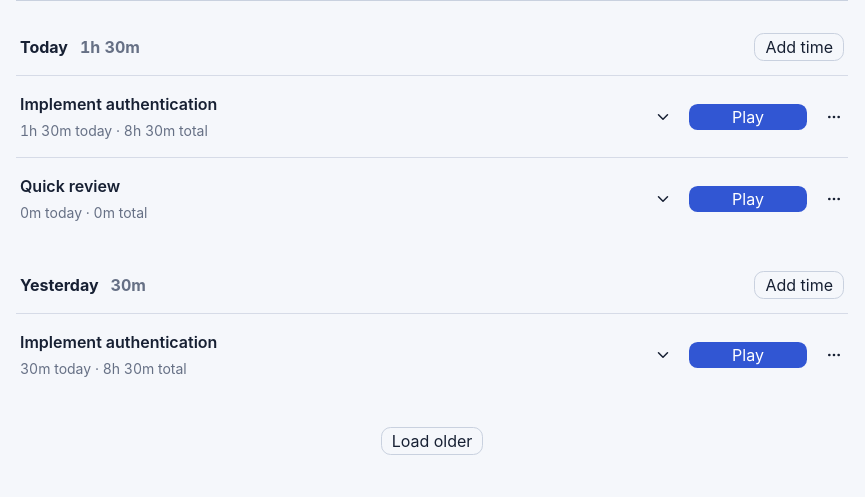
Scenario: DailyHistory › shows a compact stale-task message after TASK_NOT_FOUND while preserving history controls
Click the button with aria-label "Play Implement authentication": x=748, y=116 [688, 102, 808, 130]
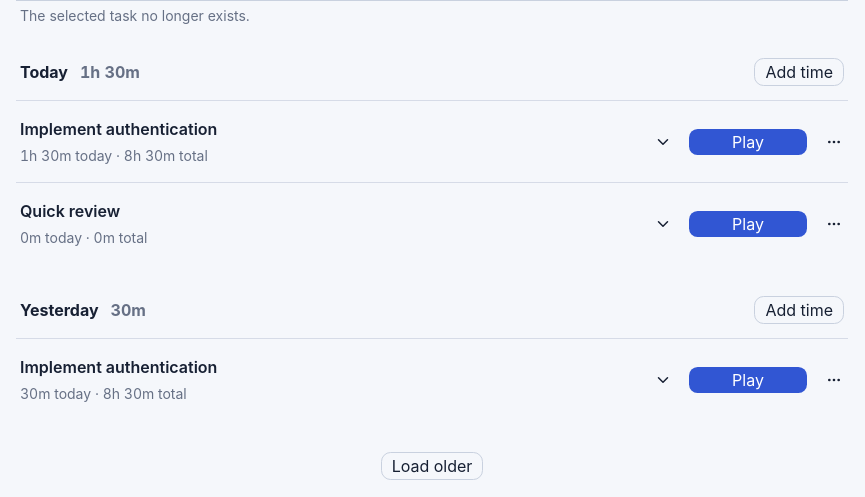
Expected: the button with aria-label "Play Quick review" is enabled, [688, 210, 808, 238]
Expected: the text "The selected task no longer exists." is shown, [20, 7, 250, 24]
